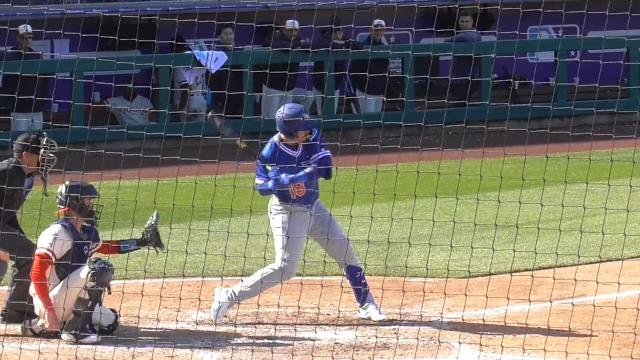bat: (208, 112, 272, 170)
